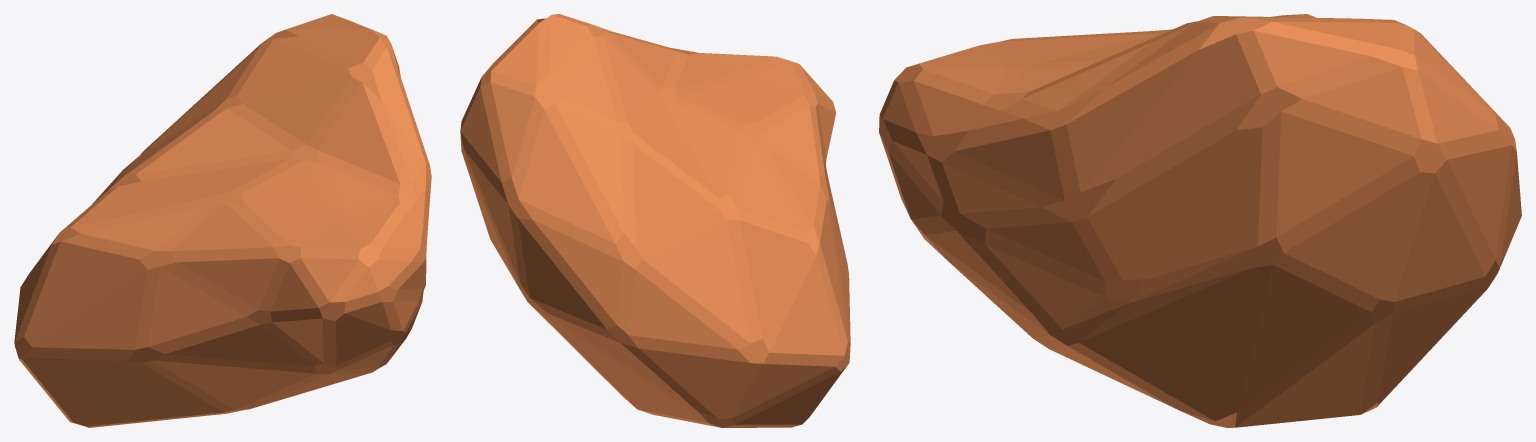
The model's file is Desert_Rock3.fbx.
The picture shows the model from 3 angles, left to right: view 1: azimuth 30°, elevation 25°; view 2: azimuth 150°, elevation 25°; view 3: azimuth 270°, elevation 25°; orthographic projection. The views are drawn at different scales.
Parts seen in each view (by area): view 1: Icosphere.003; view 2: Icosphere.003; view 3: Icosphere.003.
Part boxes in pixels (box(x1,y1,x2,y2)): Icosphere.003: box(14, 14, 431, 427); Icosphere.003: box(460, 14, 850, 427); Icosphere.003: box(879, 14, 1521, 427).
Size of the model in its own units: 168 by 151 by 179.
